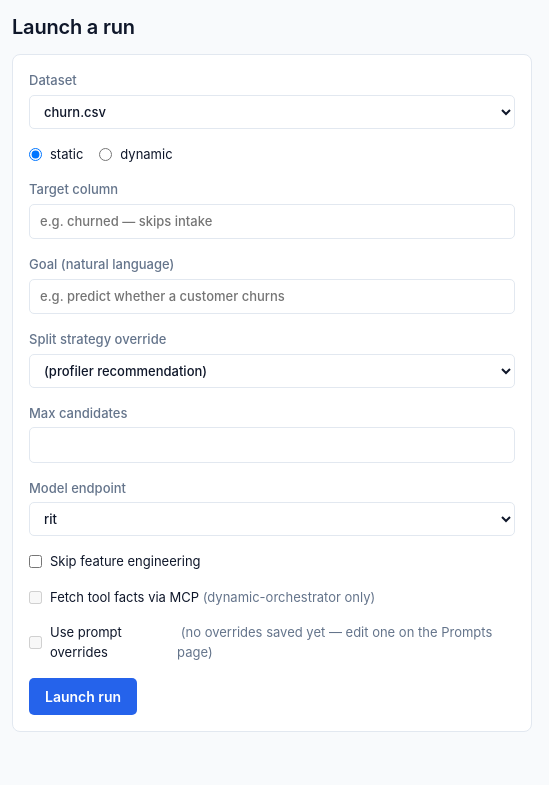
Test: LaunchPage › shows an error and does not navigate if launching fails
Expected: the dropdown showing "churn.csv" is shown, [29,94,515,128]
Type "churned" into the field labelled "Target column".
click(272, 221); type("churned")  # box [29,204,515,239]
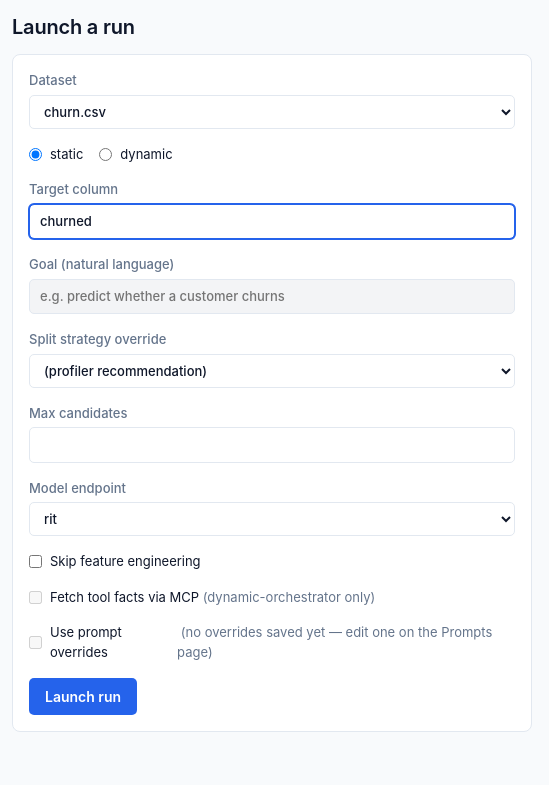
Click the button "Launch run".
click(83, 696)  # box [29,678,137,715]
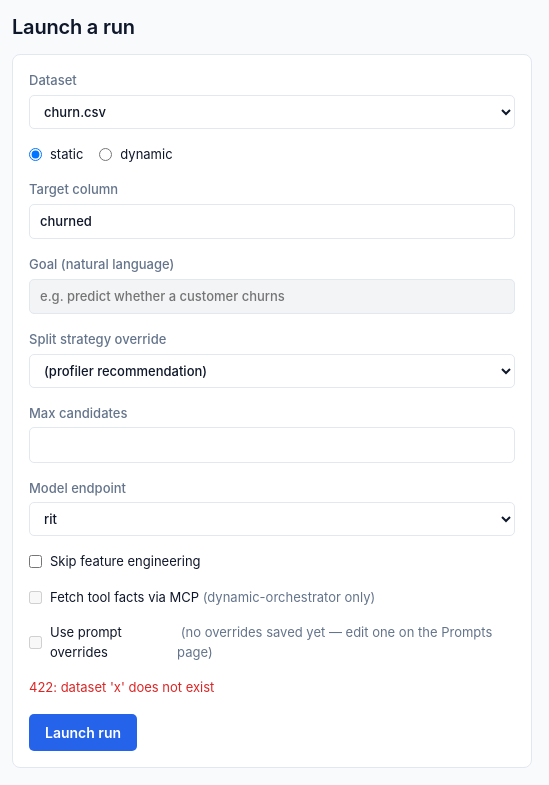
Result: the text "422: dataset 'x' does not exist" is shown at [29,679,214,695]
